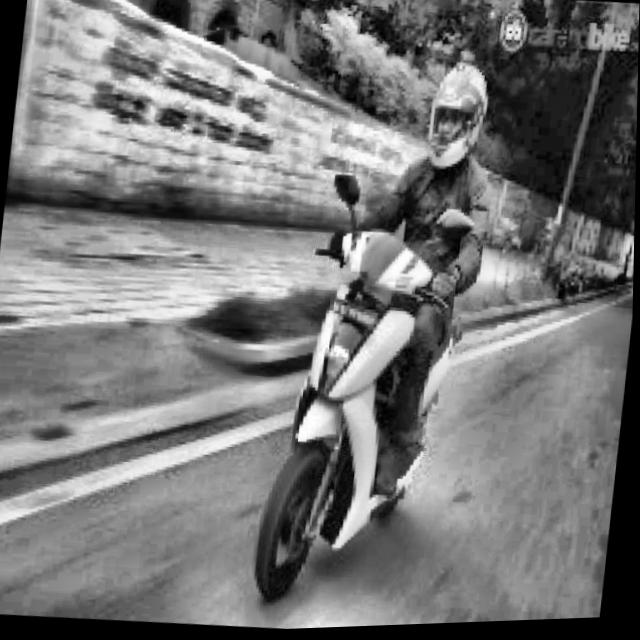motorcycle: (241, 158, 498, 633)
